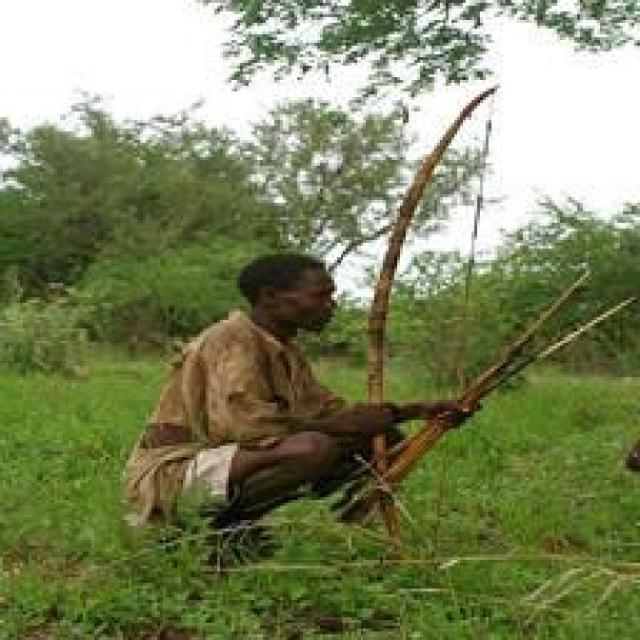X-Bow: (369, 60, 554, 540)
